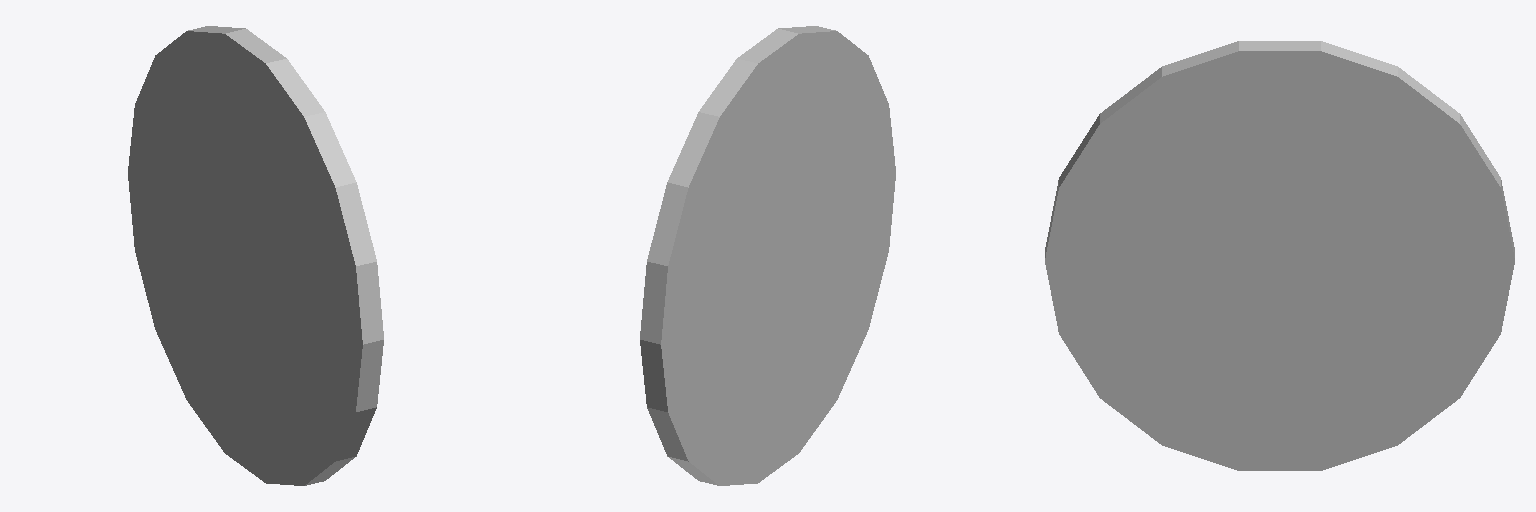
Rendered from coin.obj.
3 views of the same model, side by side, from view 1: azimuth 30°, elevation 25°; view 2: azimuth 150°, elevation 25°; view 3: azimuth 270°, elevation 25° (orthographic).
Visible parts, largest first — view 1: Cylinder001; view 2: Cylinder001; view 3: Cylinder001.
Boxes of the visible parts, x1,y1,x2,y2 form: Cylinder001: [128, 26, 383, 485]; Cylinder001: [640, 26, 895, 485]; Cylinder001: [1045, 41, 1514, 470].
Size of the model in its own units: 0.7509 by 14.17 by 14.38.